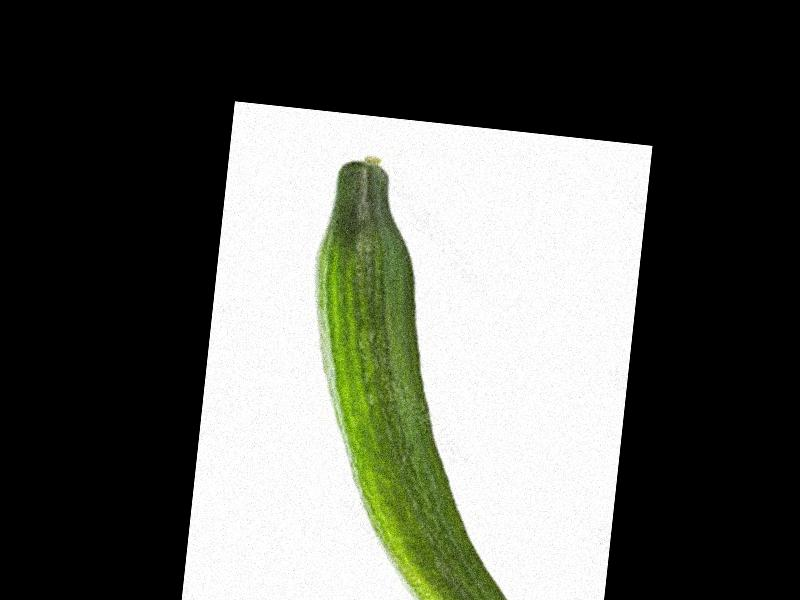Cucumber: (278, 150, 564, 600)
